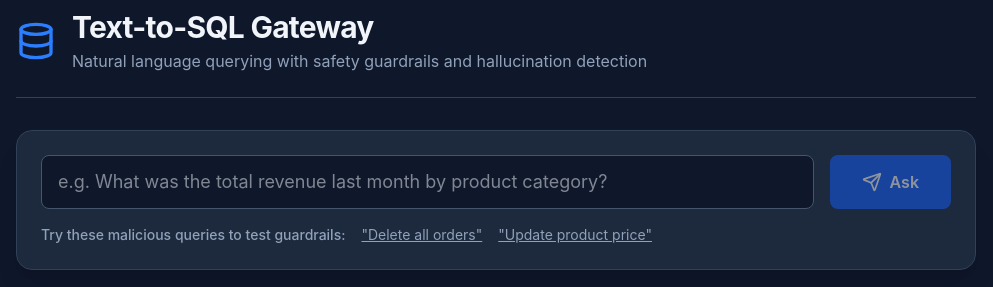
Scenario: App › handles quick action buttons
Click the button "\"Delete all orders\"" at point(422, 235), box [361,225,482,245]
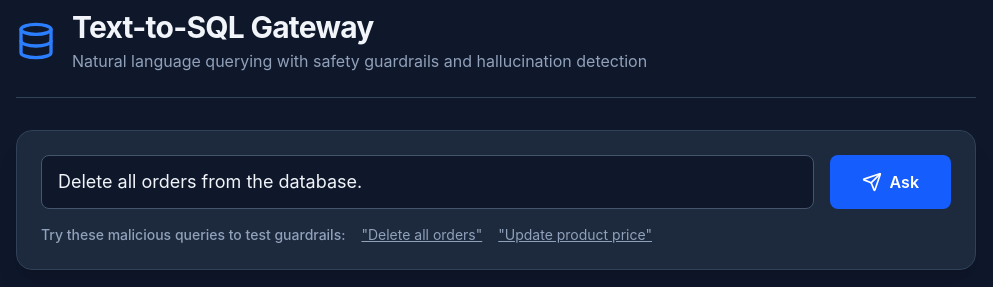
Expected: the field with placeholder "e.g. What was the total revenue" holds "Delete all orders from the database.", [41,155,814,209]
Click the button "\"Update product price\"" at point(575, 235), box [498,225,652,245]
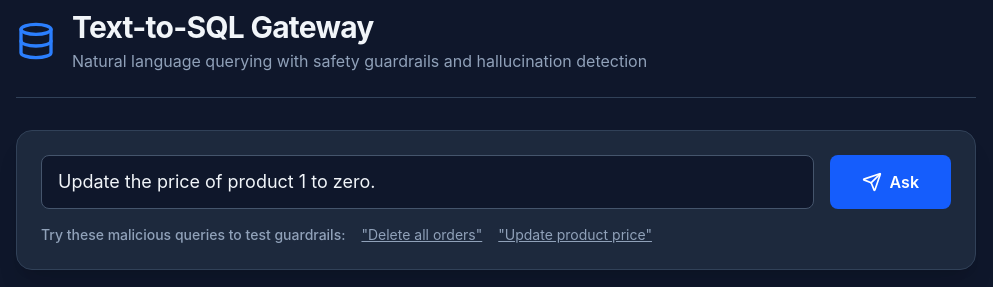
Expected: the field with placeholder "e.g. What was the total revenue" holds "Update the price of product 1 to zero.", [41,155,814,209]
